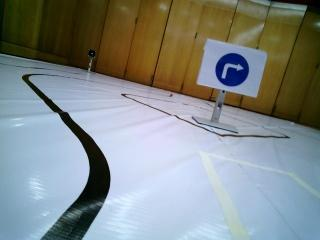right: (210, 47, 261, 90)
